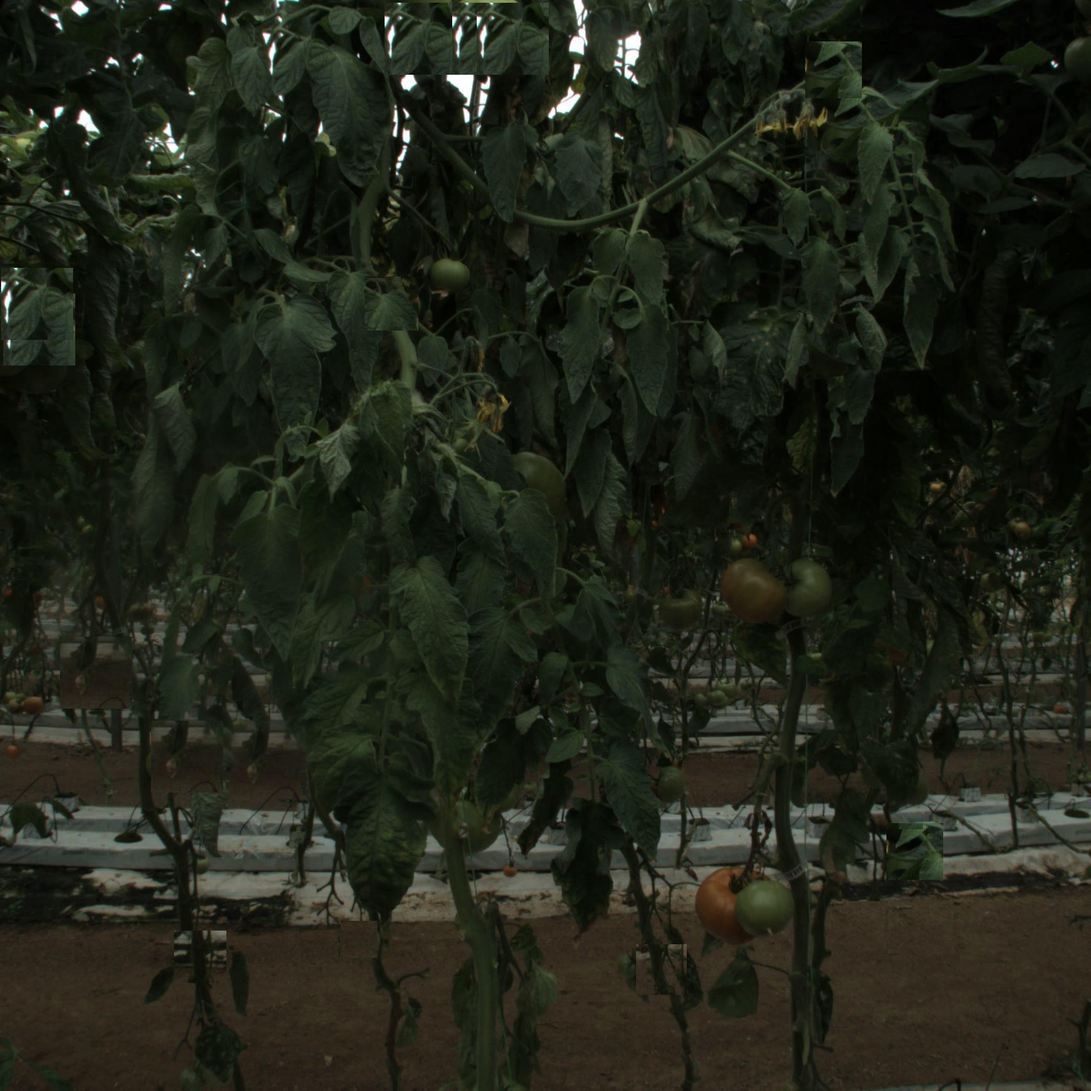fully-ripe: (693, 865, 777, 949)
semi-ripe: (720, 556, 784, 621)
unripe: (780, 563, 834, 618), (736, 878, 790, 932), (425, 255, 473, 303), (660, 584, 705, 629), (652, 764, 691, 803)
